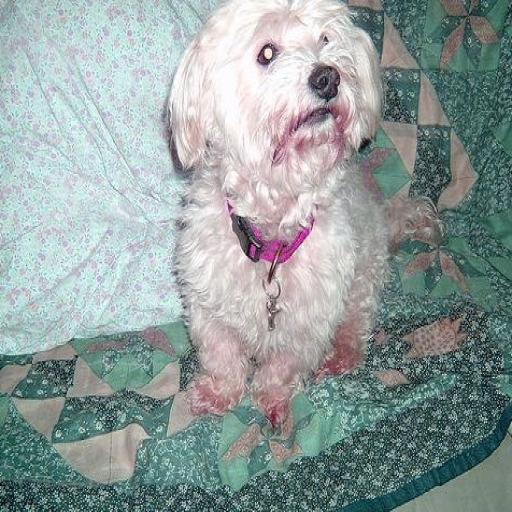dog_face: (166, 0, 401, 193)
